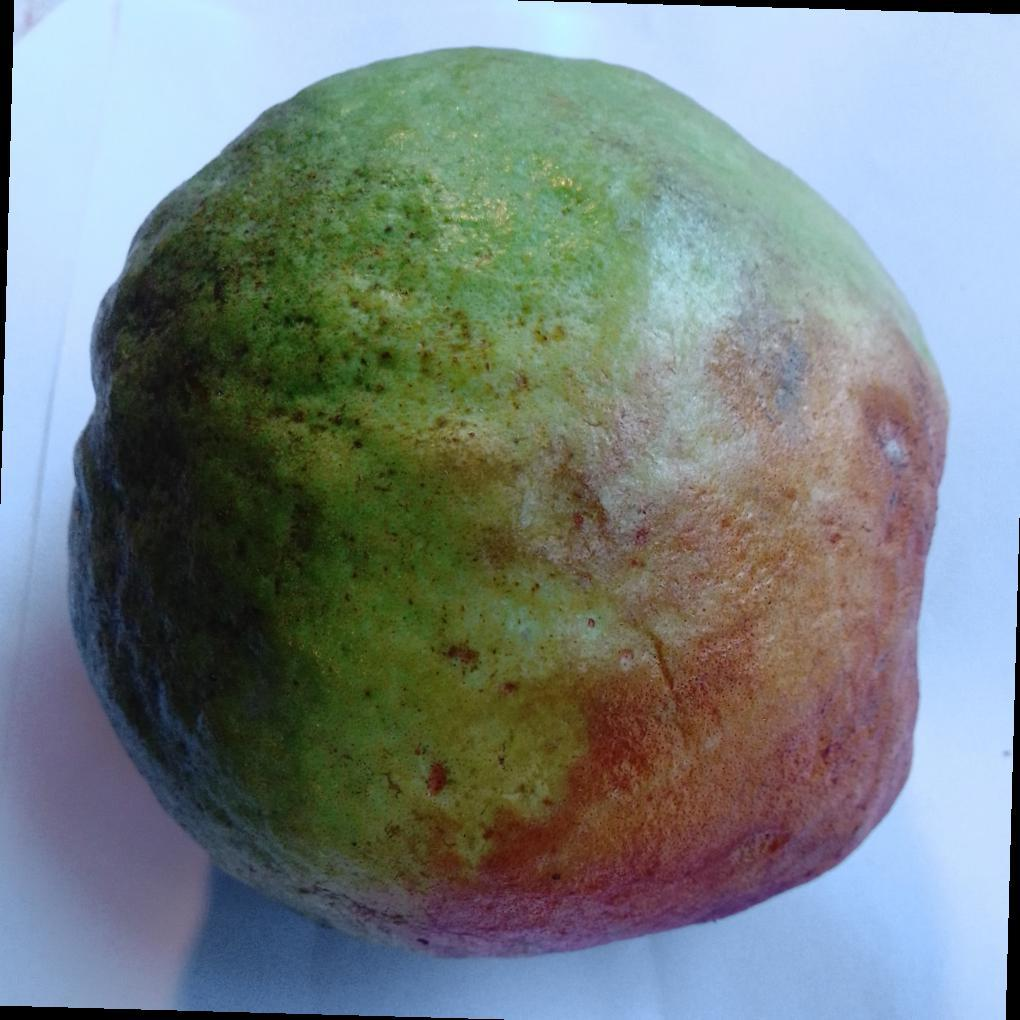FreshOrange: (67, 46, 951, 964)
